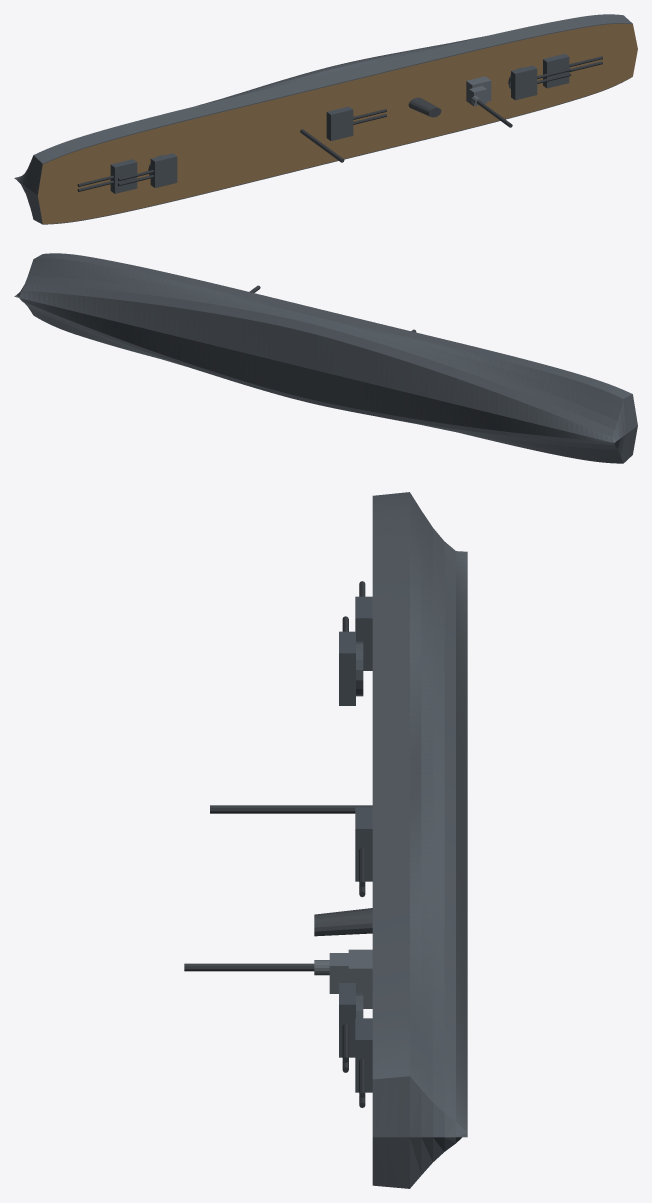
File: A127_加賀型.obj
The picture shows the model from 3 angles, top to bottom: view 1: azimuth 30°, elevation 25°; view 2: azimuth 150°, elevation 25°; view 3: azimuth 270°, elevation 25°; orthographic projection. The views are drawn at different scales.
Size of the model in its own units: 229 by 30.95 by 46.72.
